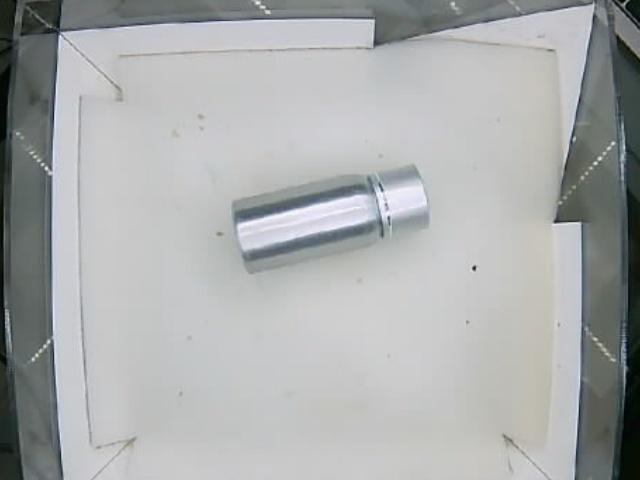Bottle: (232, 163, 430, 274)
